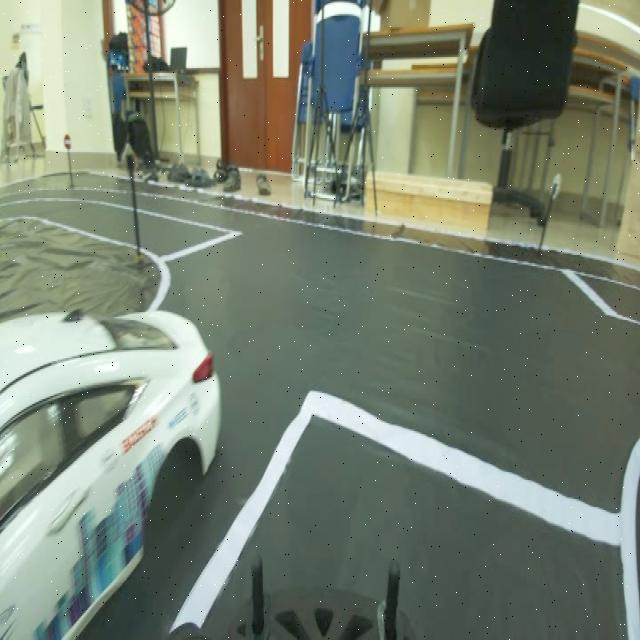car: (2, 305, 228, 607)
